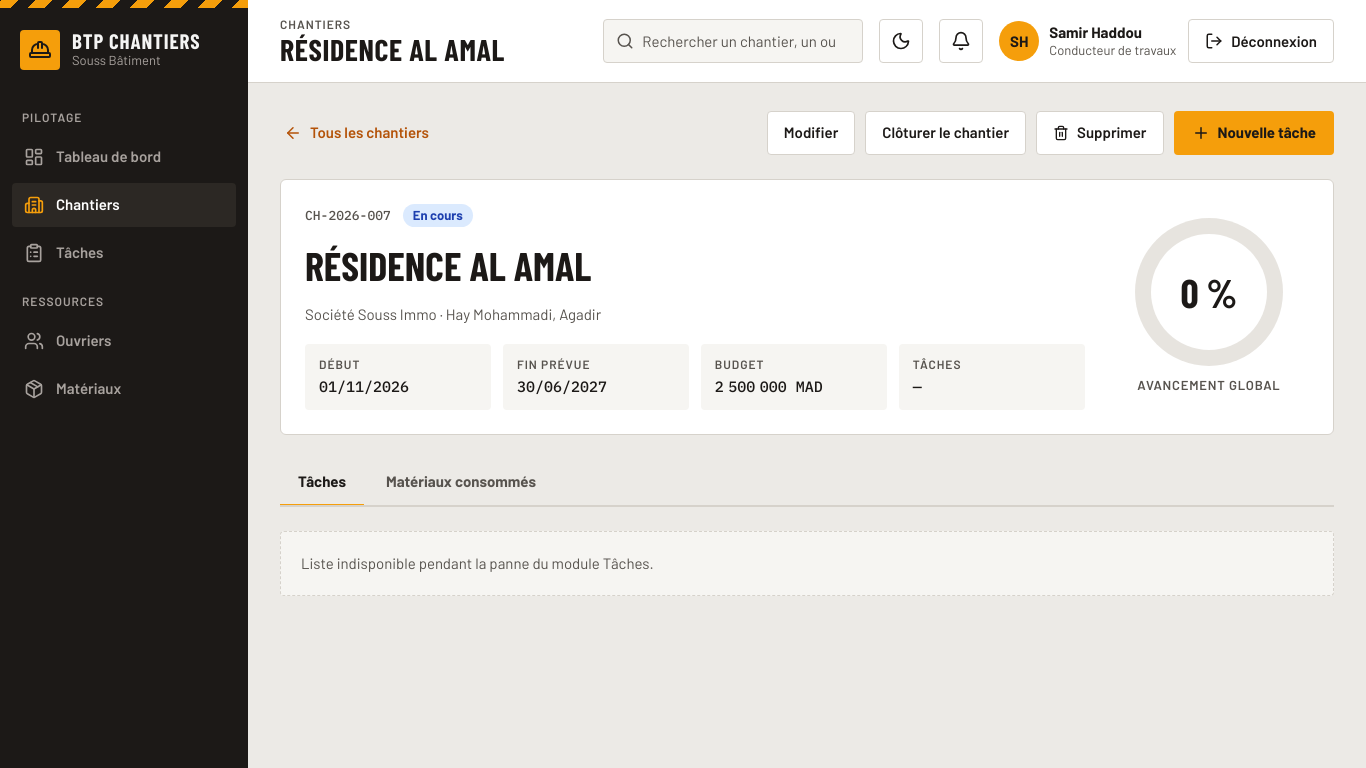
Test: Suppression d’un chantier (API réelle) › 409 : l’alerte du dialogue cite les tâches du chantier
Click the button "Supprimer": (1100, 132) [1036, 110, 1164, 154]
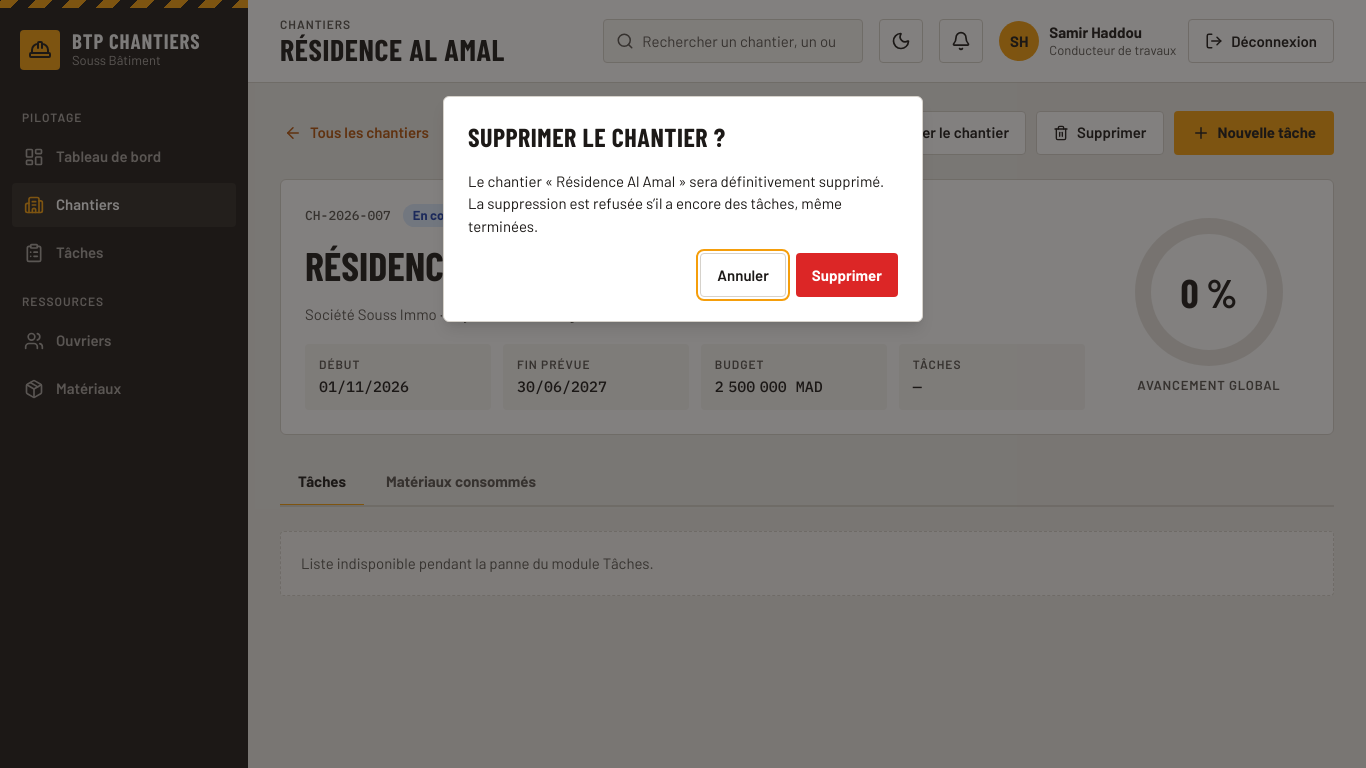
Click the button "Supprimer": (847, 275) [796, 253, 898, 297]
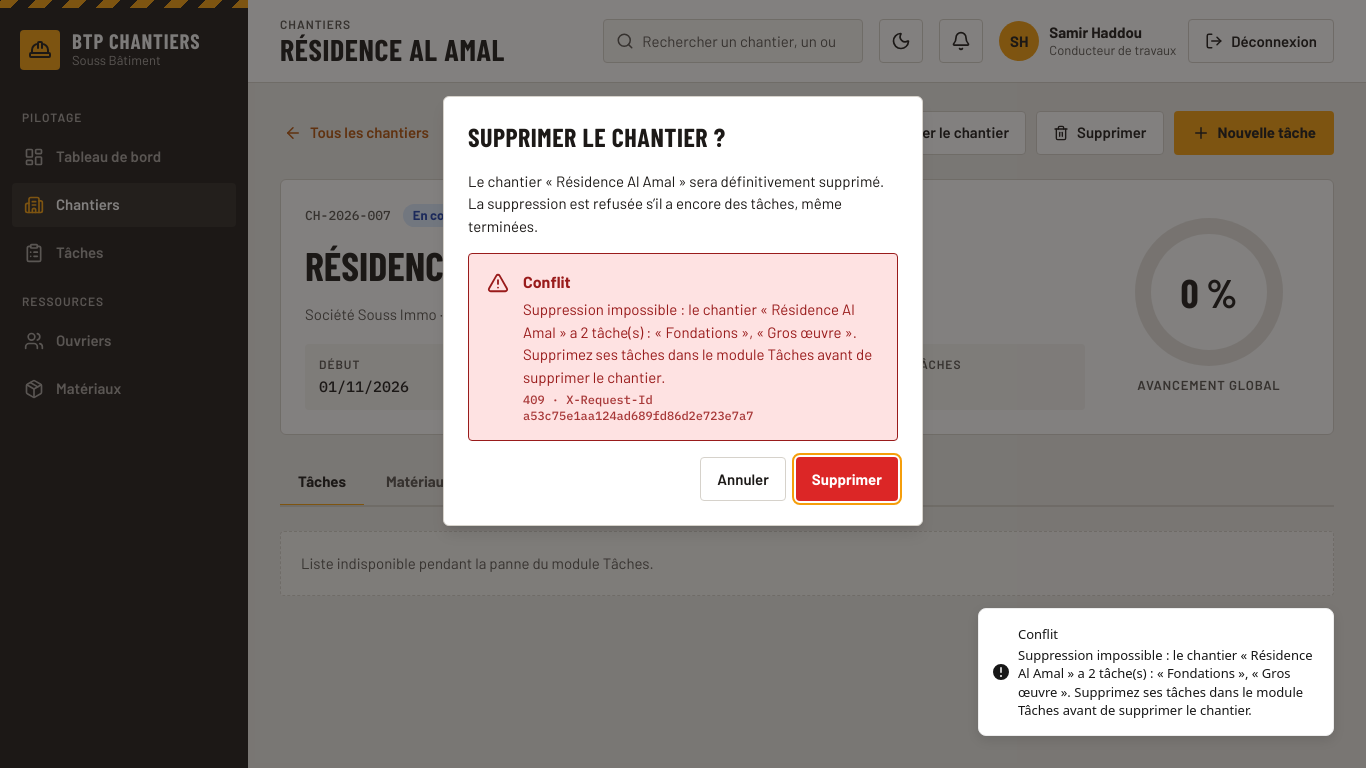
expect the message shows "Conflit": met, box [523, 272, 571, 291]
expect the message shows "« Fondations », « Gros œuvre »": met, box [523, 300, 872, 386]
expect the message shows "409": met, box [523, 392, 545, 407]
